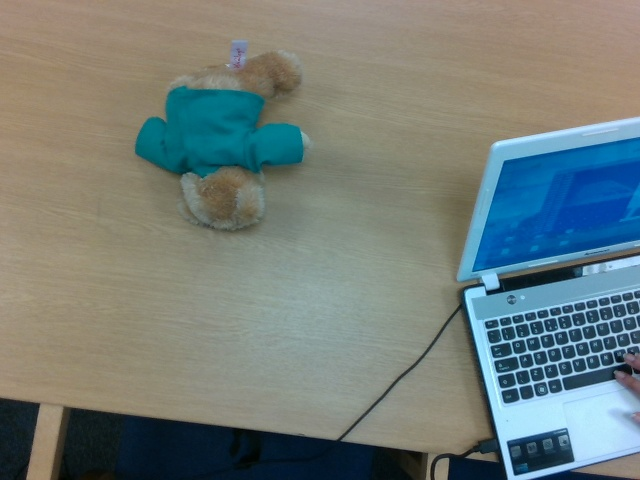teddy: (135, 51, 315, 231)
